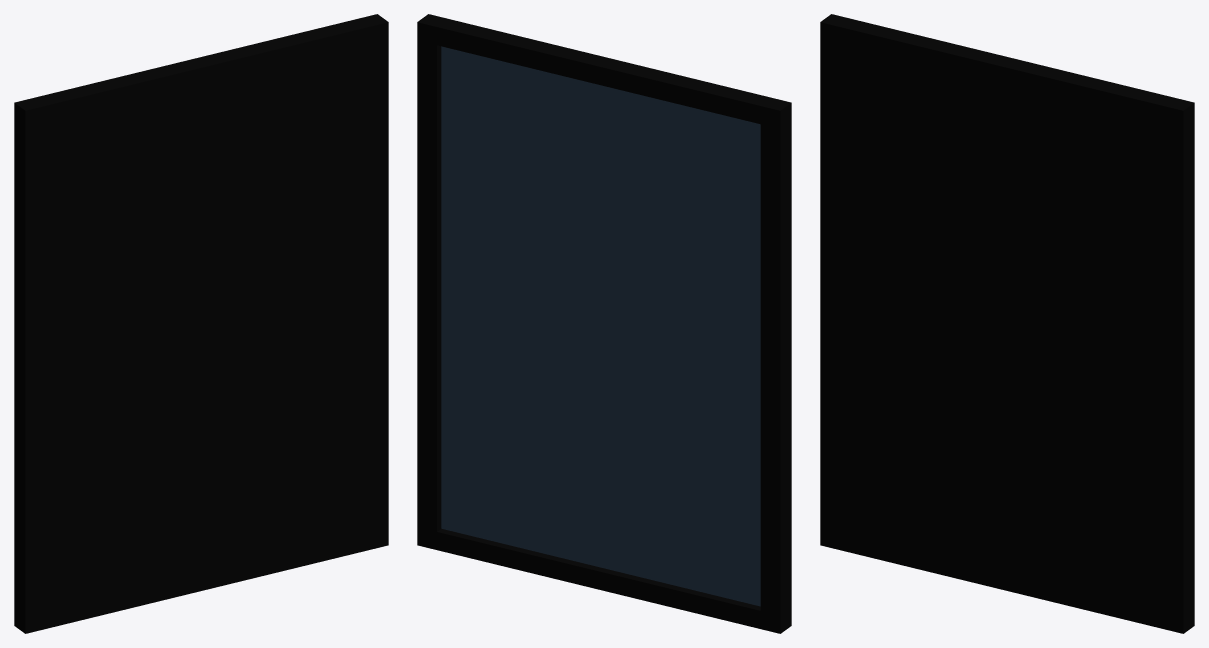
File: Screen.fbx
3 renders of one model, left to right at view 1: azimuth 30°, elevation 25°; view 2: azimuth 150°, elevation 25°; view 3: azimuth 330°, elevation 25°, orthographic.
Parts seen in each view (by area): view 1: Screen; view 2: Screen; view 3: Screen.
Part boxes in pixels (box(x1,y1,x2,y2)): Screen: box(14, 14, 388, 633); Screen: box(417, 14, 791, 633); Screen: box(820, 14, 1194, 633).
Bounding box in the file's own units: 73.62 × 101 × 3.94.
